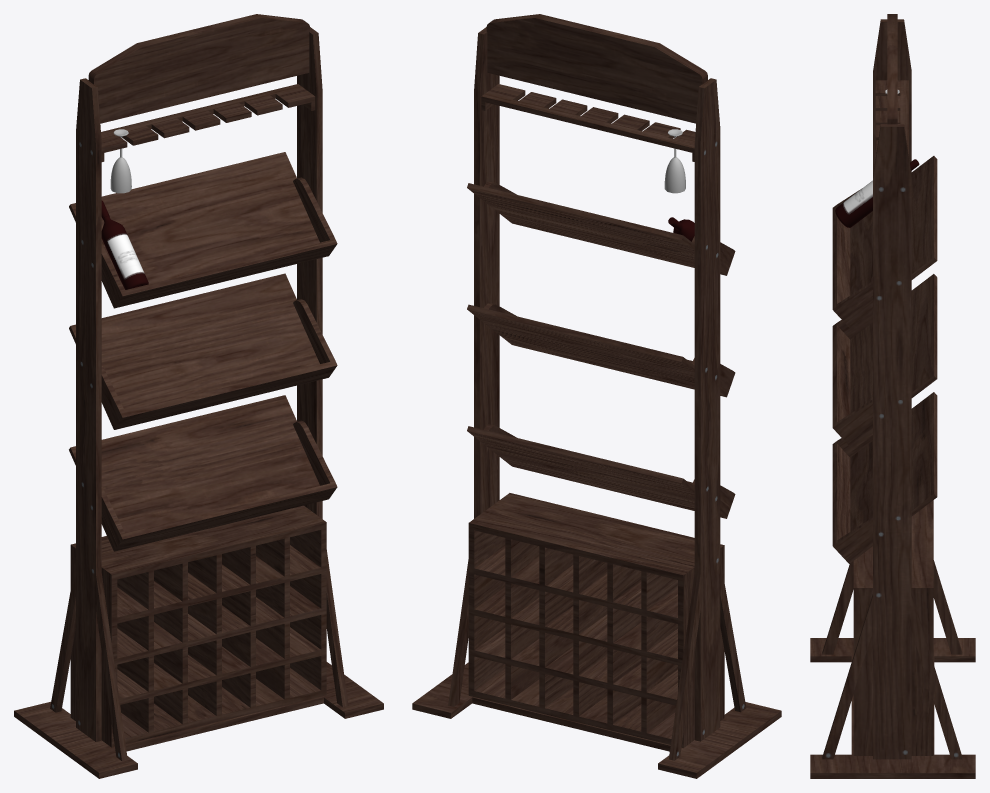
File: Winestand.glb
3 views of the same model, side by side, from view 1: azimuth 30°, elevation 25°; view 2: azimuth 150°, elevation 25°; view 3: azimuth 270°, elevation 25° (orthographic). The views are drawn at different scales.
Parts seen in each view (by area): view 1: Winestand, Wine_Bottel, Wine_glass; view 2: Winestand, Wine_glass; view 3: Winestand, Wine_Bottel.
Boxes of the visible parts, x1,y1,x2,y2 form: Winestand: (14, 14, 383, 778); Wine_Bottel: (101, 200, 148, 289); Wine_glass: (110, 129, 131, 193); Winestand: (412, 14, 781, 778); Wine_glass: (664, 129, 685, 193); Winestand: (810, 14, 975, 778); Wine_Bottel: (835, 159, 919, 227).
Bounding box in the file's own units: 0.9801 × 2.25 × 0.507.
Materials: 2 (2 with a texture image).
